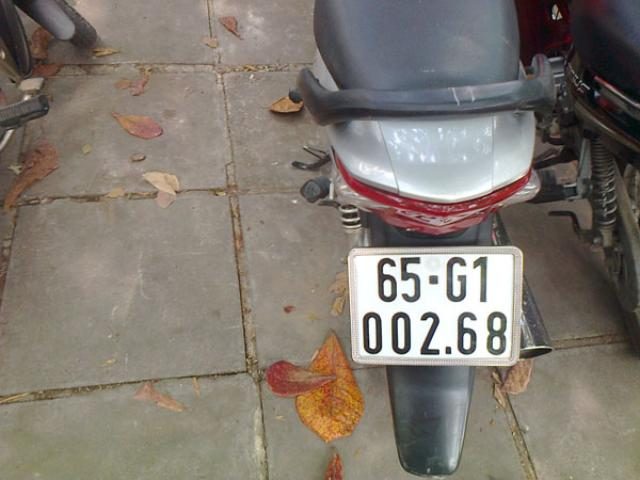plate: (351, 250, 517, 362)
